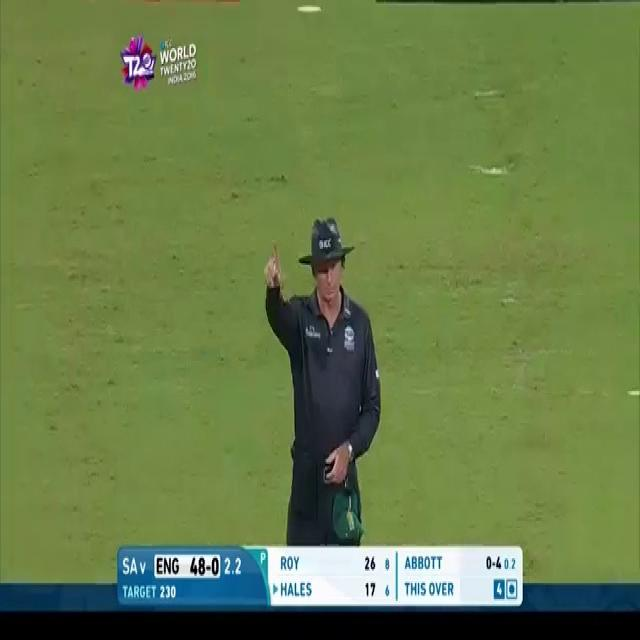Out: (259, 208, 387, 546)
